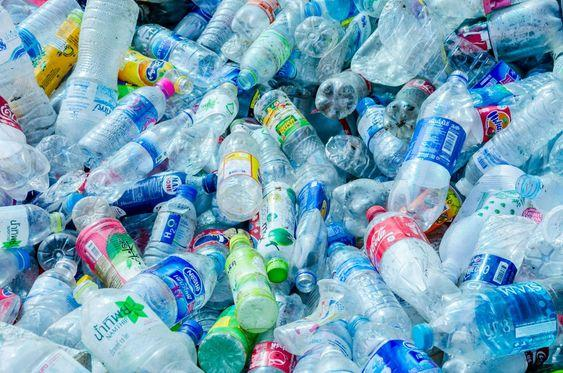HDPE: (411, 320, 434, 353), (265, 257, 290, 284), (207, 250, 230, 278), (175, 182, 200, 203), (363, 202, 385, 225), (154, 76, 176, 98), (201, 170, 217, 196), (454, 177, 473, 198), (16, 247, 30, 275), (355, 96, 376, 114)
PETE: (42, 251, 219, 367), (388, 69, 475, 233), (375, 0, 520, 91), (72, 279, 209, 373), (55, 0, 140, 148), (436, 278, 563, 369), (83, 108, 196, 204), (365, 211, 463, 319), (463, 87, 563, 187), (326, 242, 413, 340), (253, 89, 340, 177), (165, 80, 241, 177), (452, 0, 563, 63), (273, 278, 362, 356), (458, 213, 536, 292), (346, 312, 446, 373), (134, 21, 221, 89), (0, 92, 52, 203), (291, 164, 334, 297), (215, 118, 265, 223), (225, 243, 279, 336), (235, 10, 294, 91), (108, 170, 207, 217), (140, 195, 197, 276), (354, 103, 410, 180), (116, 48, 196, 97), (0, 204, 68, 251), (312, 67, 370, 119), (291, 11, 342, 60), (518, 234, 563, 286), (511, 171, 563, 213)
